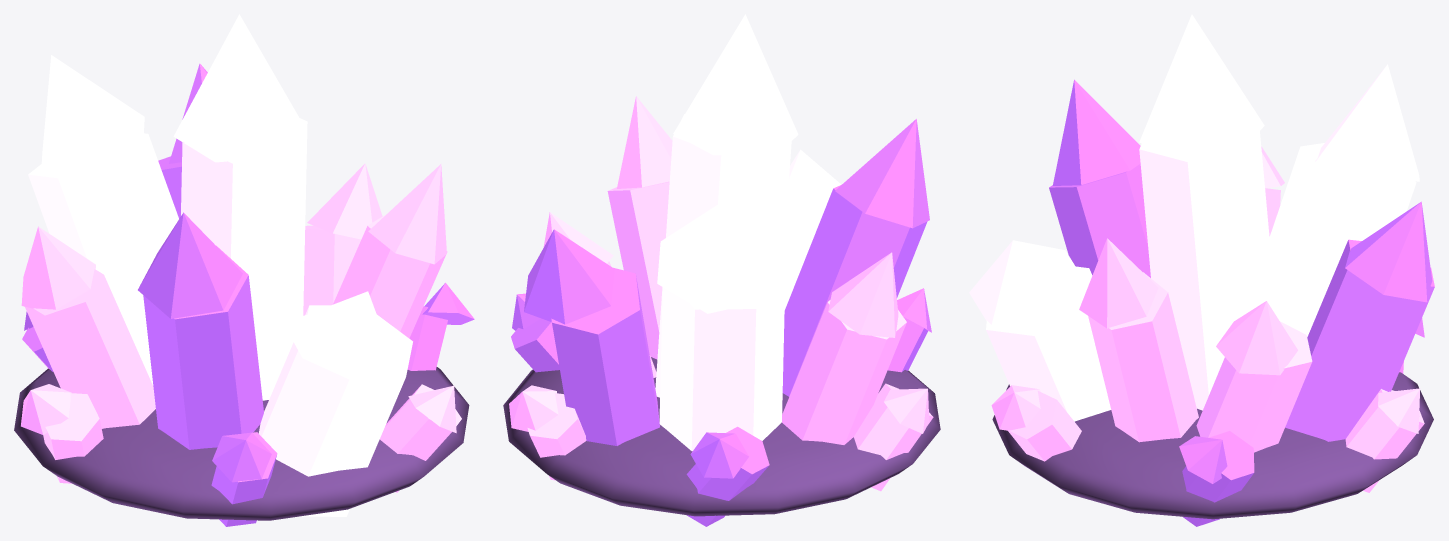
File: relleno_kalaxianos.glb
The picture shows the model from 3 angles, left to right: view 1: azimuth 30°, elevation 25°; view 2: azimuth 150°, elevation 25°; view 3: azimuth 270°, elevation 25°; orthographic projection. The views are drawn at different scales.
Parts seen in each view (by area): view 1: relleno_kalaxianos; view 2: relleno_kalaxianos; view 3: relleno_kalaxianos.
Boxes of the visible parts, x1,y1,x2,y2 form: relleno_kalaxianos: [14, 14, 474, 526]; relleno_kalaxianos: [503, 14, 940, 526]; relleno_kalaxianos: [969, 14, 1434, 526].
Bounding box in the file's own units: 0.9847 × 0.9813 × 0.9494.
